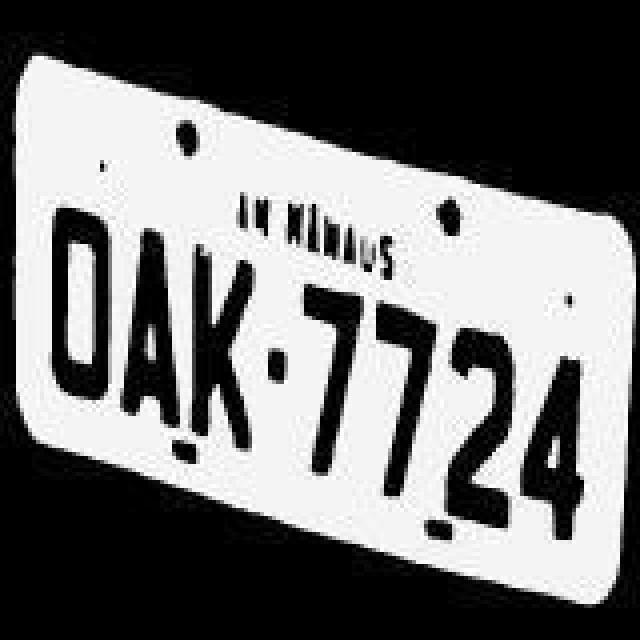2: (436, 320, 516, 536)
4: (520, 352, 600, 552)
7: (370, 294, 446, 506), (298, 278, 366, 490)
A: (114, 220, 190, 436)
K: (184, 232, 256, 456)
O: (48, 204, 120, 420)
